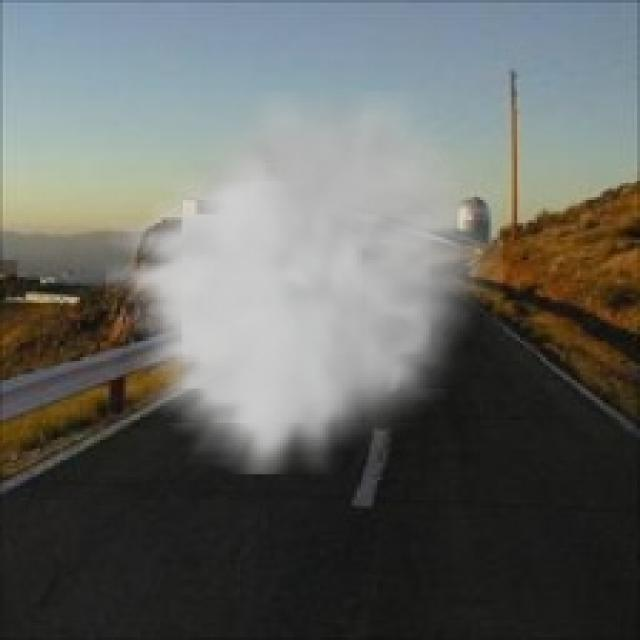Smoke: (106, 92, 503, 474)
